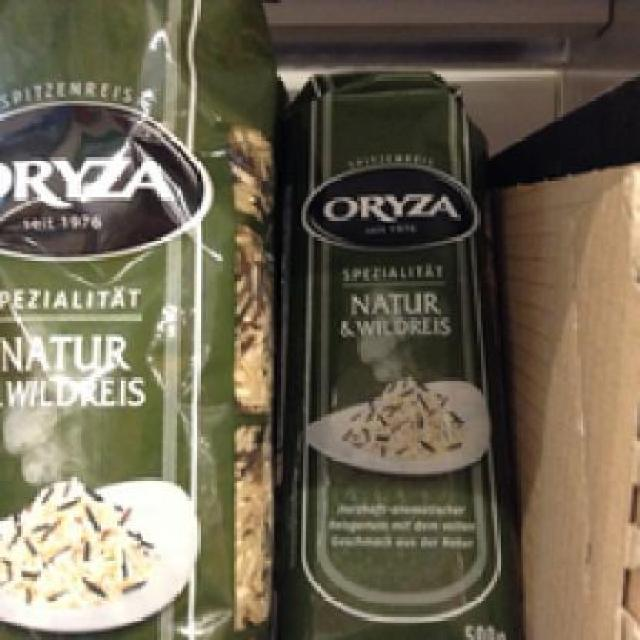Rice: (0, 0, 280, 637), (277, 68, 520, 634)
